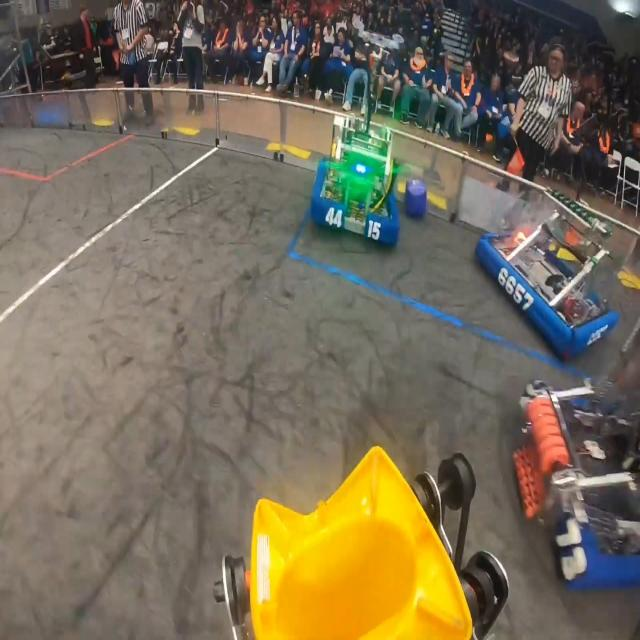robot: (512, 358, 640, 591), (476, 187, 620, 362), (310, 115, 401, 247)
